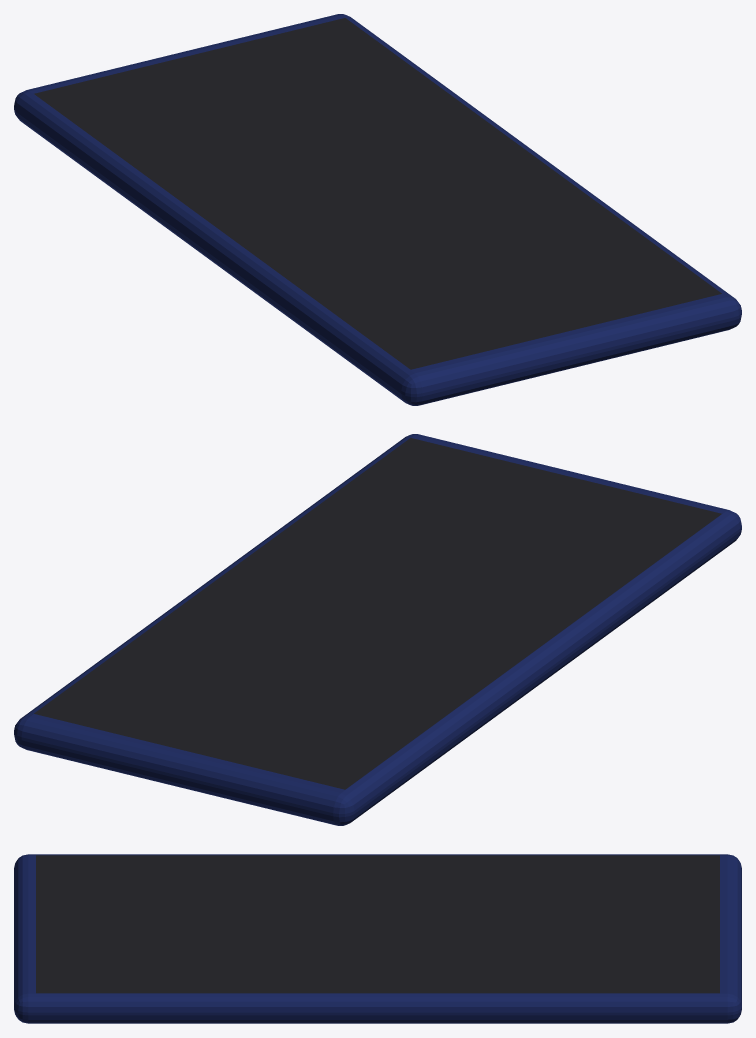
The model's file is Phone_265.glb.
3 views of the same model, one above another, from view 1: azimuth 30°, elevation 25°; view 2: azimuth 150°, elevation 25°; view 3: azimuth 270°, elevation 25° (orthographic). The views are drawn at different scales.
Visible parts, largest first — view 1: Phone_Screen, Phone_Body; view 2: Phone_Screen, Phone_Body; view 3: Phone_Screen, Phone_Body.
Part boxes in pixels (x1,y1,x2,y2): Phone_Screen: [34, 18, 721, 369]; Phone_Body: [14, 14, 741, 405]; Phone_Screen: [34, 438, 721, 789]; Phone_Body: [14, 434, 741, 825]; Phone_Screen: [36, 855, 719, 993]; Phone_Body: [14, 854, 741, 1023].
Size of the model in its own units: 0.0799 by 0.0072 by 0.1639.
